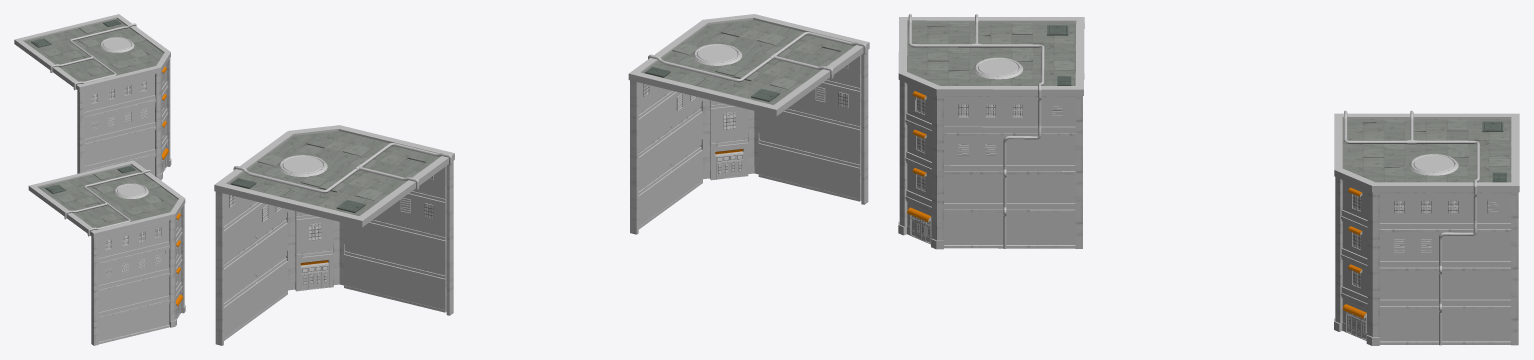
Rendered from MERGED_SM_ENV_KNVLLG_CommonBuilding_G_2.mo.fbx.
3 renders of one model, left to right at view 1: azimuth 30°, elevation 25°; view 2: azimuth 150°, elevation 25°; view 3: azimuth 270°, elevation 25°, orthographic. The views are drawn at different scales.
Visible parts, largest first — view 1: MERGED_SM_ENV_KNVLLG_CommonBuilding_G_2.mo; view 2: MERGED_SM_ENV_KNVLLG_CommonBuilding_G_2.mo; view 3: MERGED_SM_ENV_KNVLLG_CommonBuilding_G_2.mo.
Part boxes in pixels (left/top/right/bottom): MERGED_SM_ENV_KNVLLG_CommonBuilding_G_2.mo: left=14, top=14, right=185, bottom=345; MERGED_SM_ENV_KNVLLG_CommonBuilding_G_2.mo: left=214, top=14, right=869, bottom=345; MERGED_SM_ENV_KNVLLG_CommonBuilding_G_2.mo: left=898, top=14, right=1519, bottom=345.
Size of the model in its own units: 57.51 by 25.46 by 88.06.
